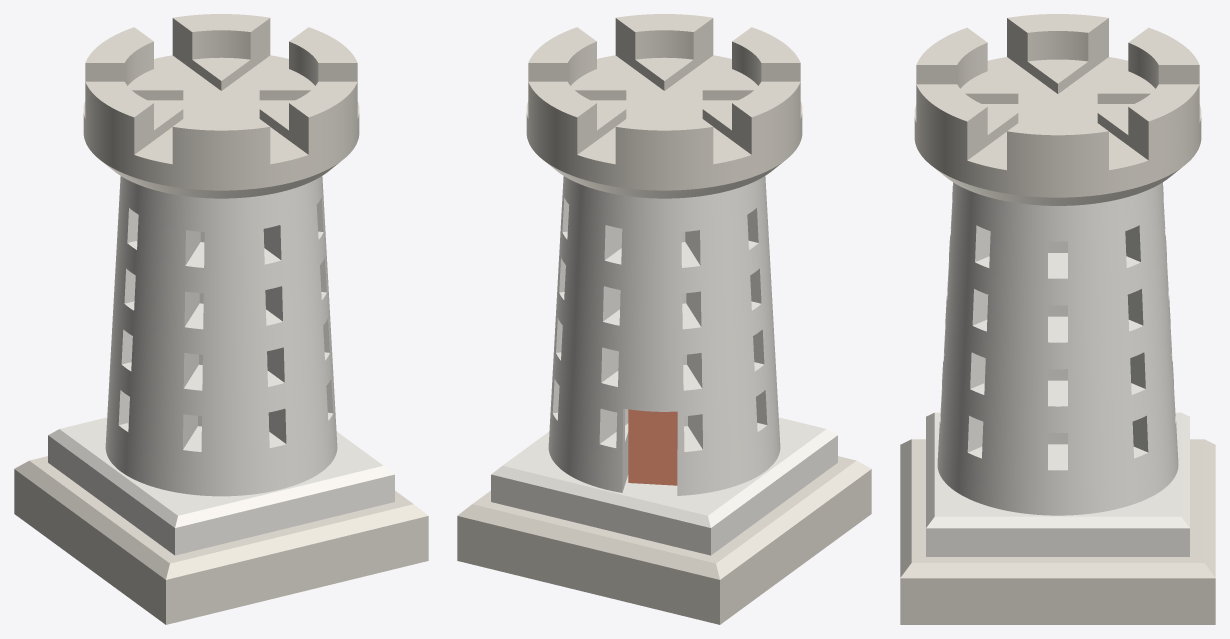
Rendered from rook_cream.glb.
The picture shows the model from 3 angles, left to right: view 1: azimuth 30°, elevation 25°; view 2: azimuth 150°, elevation 25°; view 3: azimuth 270°, elevation 25°; orthographic projection. The views are drawn at different scales.
Parts seen in each view (by area): view 1: =>[0:1:1:10], =>[0:1:1:12], =>[0:1:1:5], =>[0:1:1:8]; view 2: =>[0:1:1:10], =>[0:1:1:12], =>[0:1:1:5], =>[0:1:1:8], =>[0:1:1:14]; view 3: =>[0:1:1:10], =>[0:1:1:12], =>[0:1:1:5], =>[0:1:1:8].
Part boxes in pixels (x1,y1,x2,y2): =>[0:1:1:10]: [105, 176, 337, 496]; =>[0:1:1:12]: [83, 14, 359, 198]; =>[0:1:1:5]: [14, 456, 428, 624]; =>[0:1:1:8]: [48, 417, 394, 555]; =>[0:1:1:10]: [548, 176, 780, 495]; =>[0:1:1:12]: [526, 14, 802, 198]; =>[0:1:1:5]: [457, 456, 871, 624]; =>[0:1:1:8]: [491, 417, 837, 555]; =>[0:1:1:14]: [628, 409, 677, 485]; =>[0:1:1:10]: [937, 182, 1178, 515]; =>[0:1:1:12]: [914, 14, 1201, 205]; =>[0:1:1:5]: [900, 439, 1215, 624]; =>[0:1:1:8]: [926, 412, 1189, 556].
Bounding box in the file's own units: 0.11 × 0.186 × 0.11.
